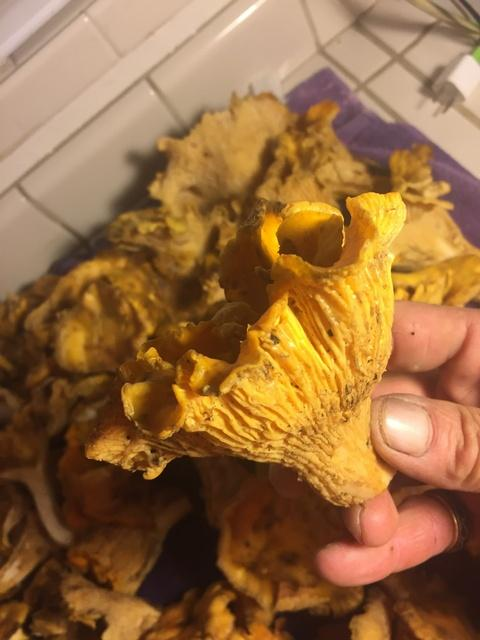edible_mushroom: (83, 188, 407, 508)
